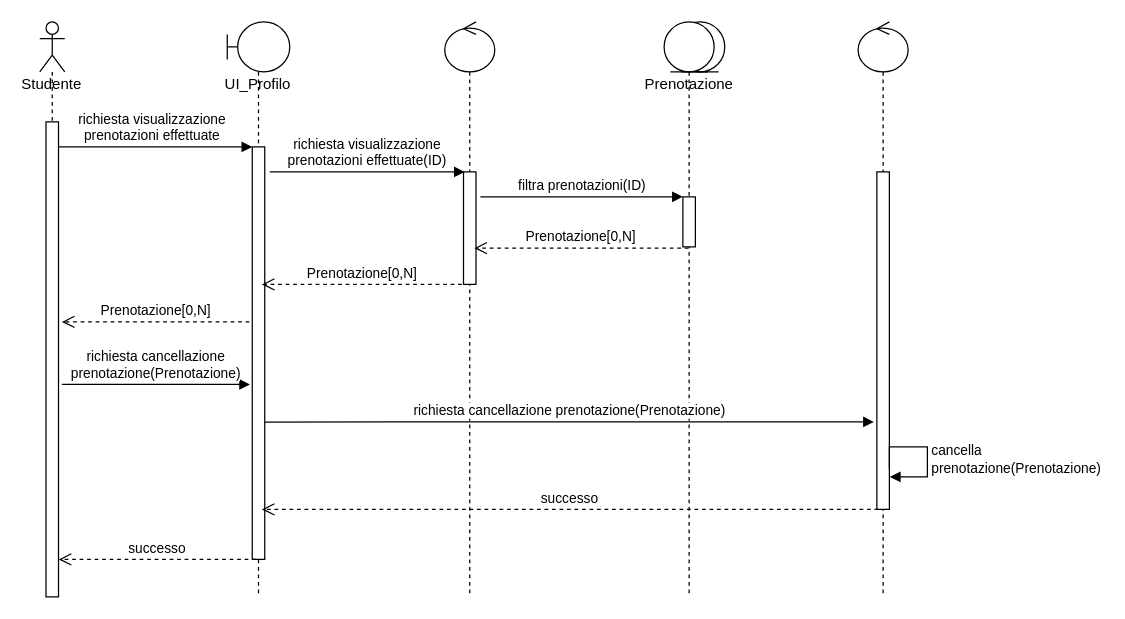
The diagram is 1125 pixels wide and 619 high, and some of its shapes have lost their labels. Each missing label, with the box of its shape:
Hendler_Cancella-prenotazione: (857, 21, 908, 597)
Hendler_Visualizza-prenotazioni-effettuate: (444, 21, 495, 597)
